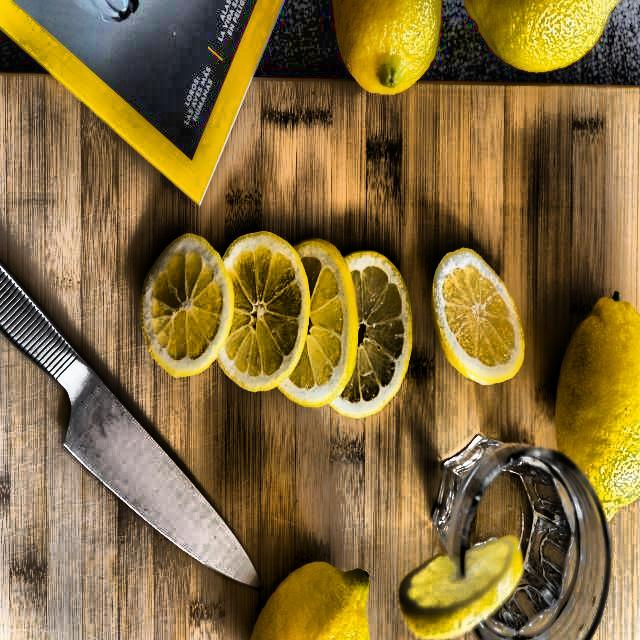knife: (0, 267, 269, 594)
